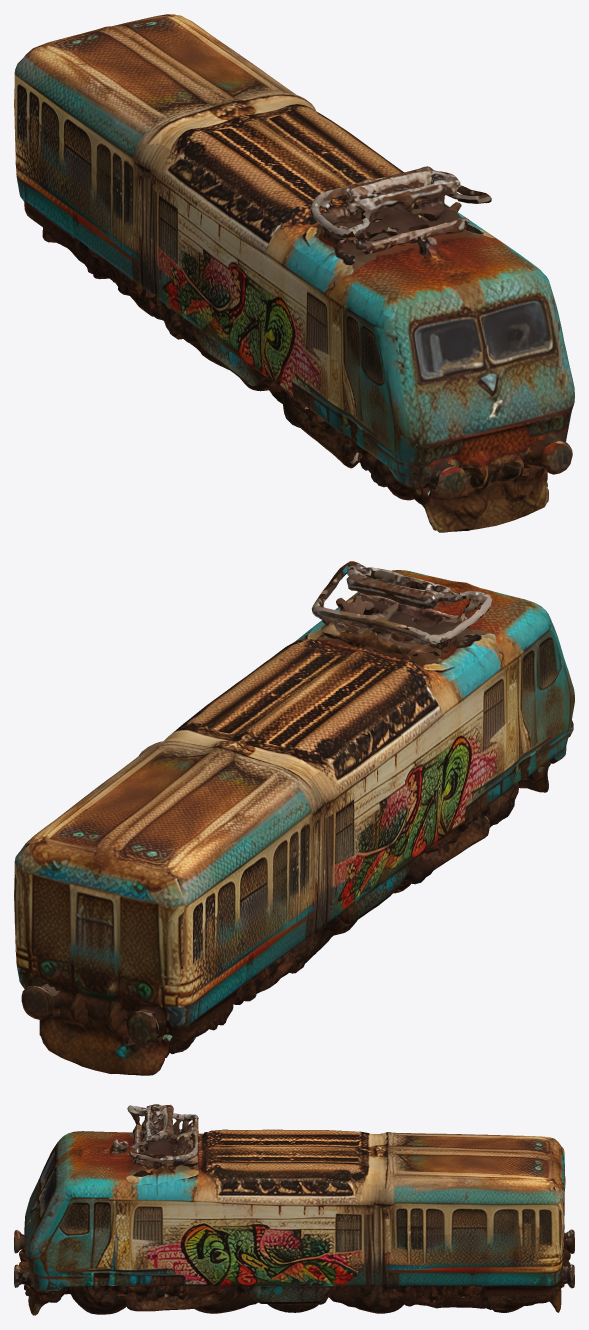
The model's file is TrenoHD.glb.
3 views of the same model, one above another, from view 1: azimuth 30°, elevation 25°; view 2: azimuth 150°, elevation 25°; view 3: azimuth 270°, elevation 25° (orthographic). The views are drawn at different scales.
Visible parts, largest first — view 1: tmpln6774jx.ply; view 2: tmpln6774jx.ply; view 3: tmpln6774jx.ply.
Boxes of the visible parts, x1,y1,x2,y2 form: tmpln6774jx.ply: (14,14,574,532); tmpln6774jx.ply: (14,561,574,1075); tmpln6774jx.ply: (14,1104,574,1315).
Bounding box in the file's own units: 0.4847 × 0.7081 × 1.96.
Materials: 1 (1 with a texture image).
